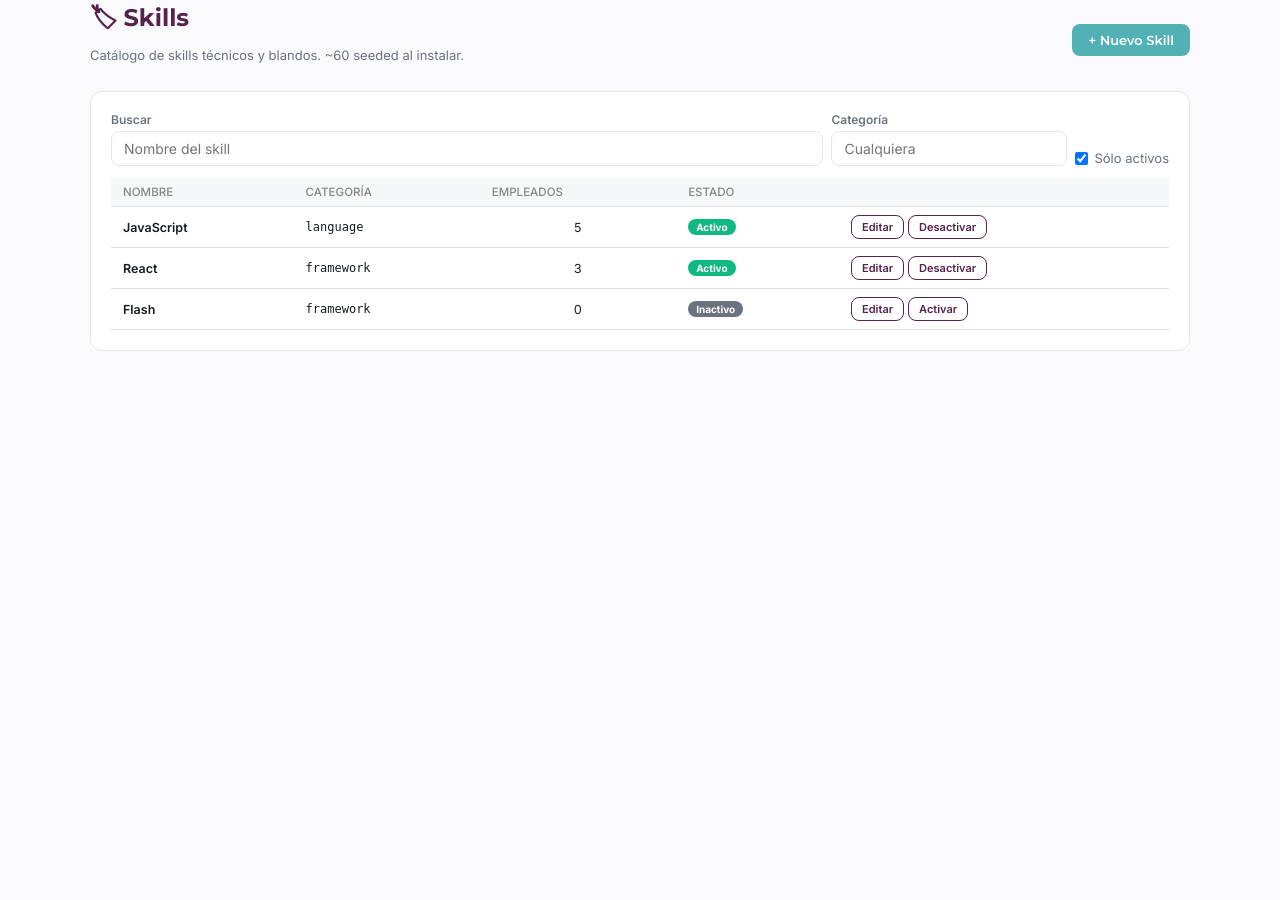
Skills module › opens edit modal with prefilled values
Expected: the text "JavaScript" is shown, left=111, top=206, right=294, bottom=248
Click the button with aria-label "Editar JavaScript" at (878, 227), box left=851, top=215, right=904, bottom=239
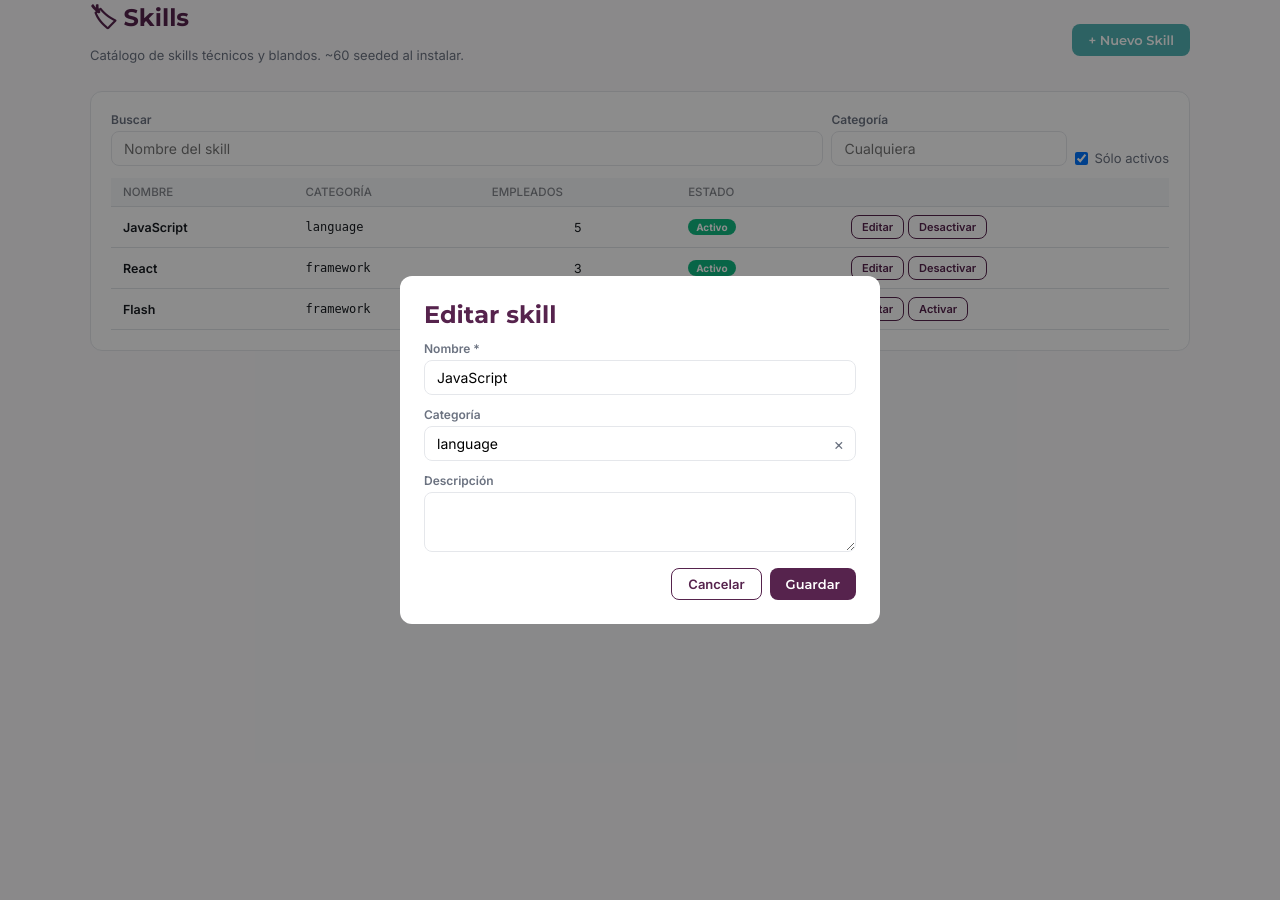
Expected: the heading "Editar skill" is shown, left=424, top=300, right=556, bottom=329
Expected: the field showing "JavaScript" is shown, left=424, top=360, right=856, bottom=395
